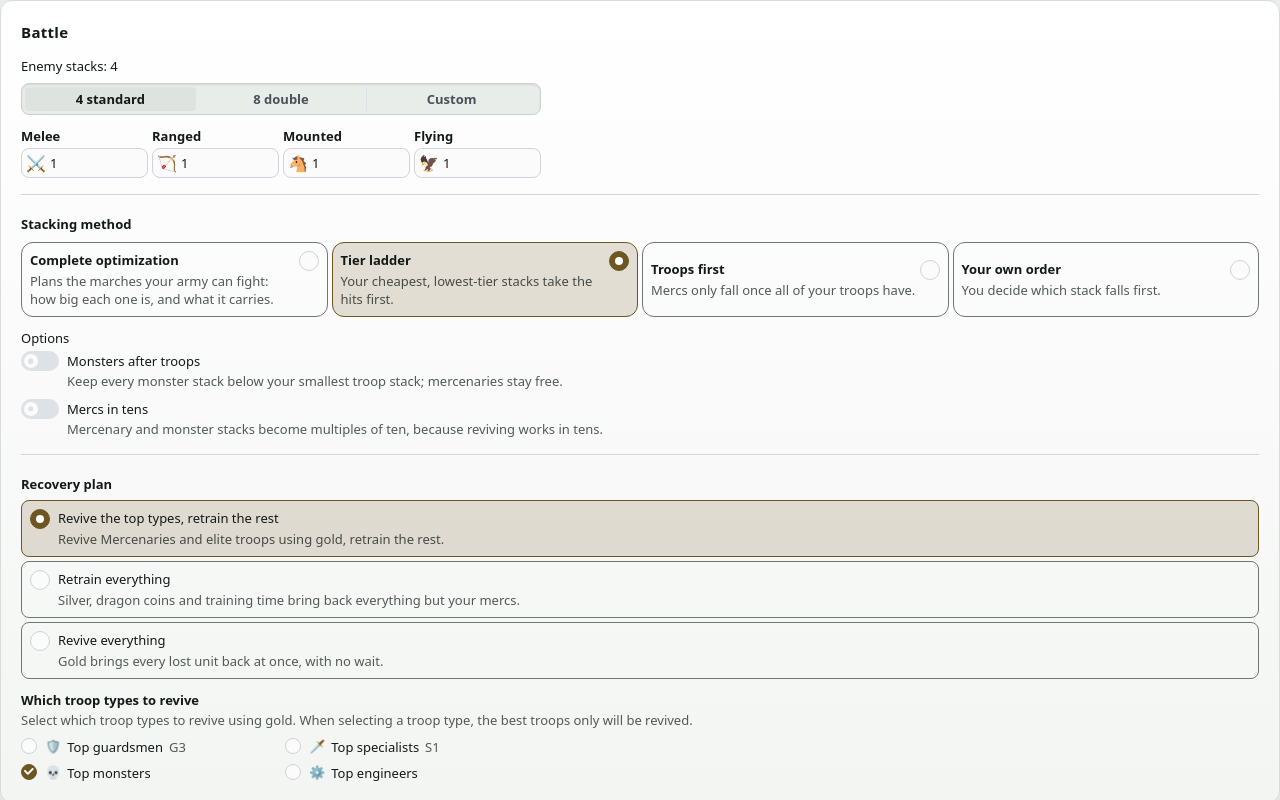
Test: the plan method asks for nothing, and hides the rules it decides itself
Click the radio button labelled "Complete optimization": {"x": 174, "y": 280} [21,242,328,317]
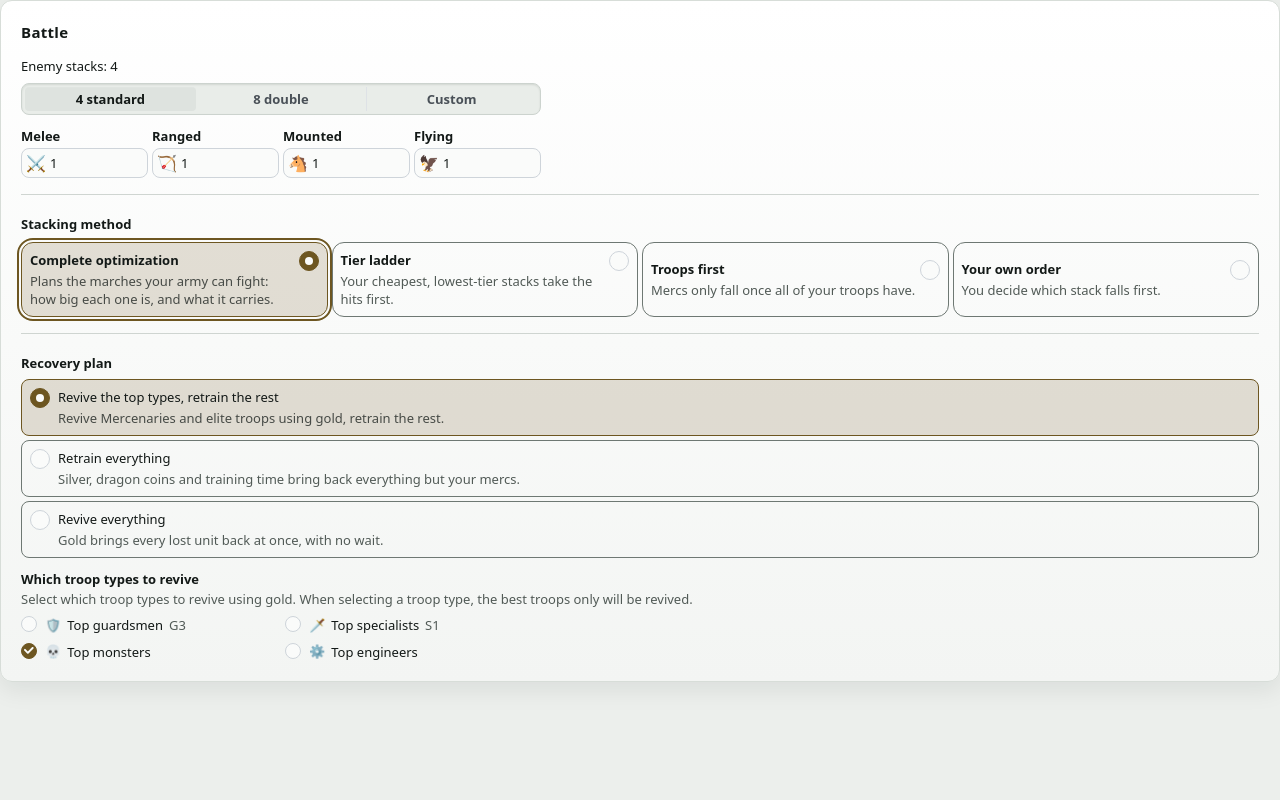
Expected: the text "Plans the marches your army can fight: how big each one is, and what it carries." is shown, [30,272,294,308]
Expected: the text "Options" is gone
